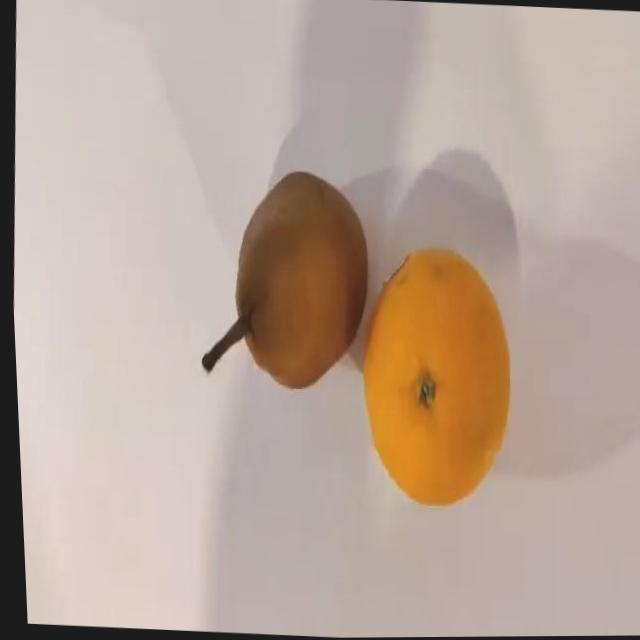Orange: (347, 243, 518, 512)
